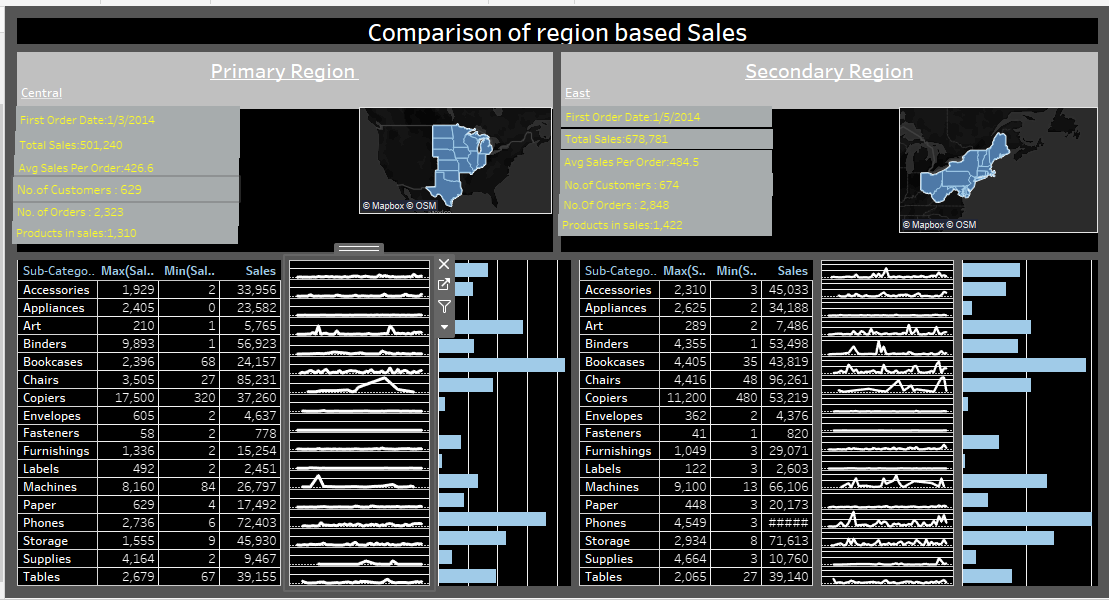

This screenshot's page, from the dashboard's own definition file:
{"tool":"tableau","page":{"name":"Dashboard 1","canvas":[1000,1000],"units":"permille","ordinal":0},"visuals":[{"type":"title","box":[7.2,13.5,985.5,57.4]},{"type":"worksheet","title":"PrimeRegion","mark":"Automatic","box":[7.2,70.9,492.8,351.7]},{"type":"worksheet","title":"SecondRegion","mark":"Automatic","box":[500,70.9,492.8,351.7]},{"type":"worksheet","title":"First Order Date","mark":"Automatic","box":[10,168.9,202.7,49]},{"type":"worksheet","title":"First Order Date (2)","mark":"Automatic","box":[503,168.9,191,35.5]},{"type":"worksheet","title":"Primary Region Map","mark":"Multipolygon","box":[320.4,170.6,174.9,180.7]},{"type":"worksheet","title":"Secondary Region Map","mark":"Multipolygon","box":[808.7,170.6,180.1,212.8]},{"type":"worksheet","title":"Total Sales (2)","mark":"Automatic","box":[503,207.8,191.9,33.8]},{"type":"worksheet","title":"Total Sales","mark":"Automatic","box":[9.1,211.2,203.6,45.6]},{"type":"worksheet","title":"AvgSales (2)","mark":"Automatic","box":[502.1,243.2,191.9,38.9]},{"type":"worksheet","title":"AvgSales","mark":"Automatic","box":[8.1,251.7,203.6,42.2]},{"type":"worksheet","title":"Customer (2)","mark":"Automatic","box":[502.1,282.1,192.7,38.9]},{"type":"worksheet","title":"Customer","mark":"Automatic","box":[7.2,288.9,204.5,40.5]},{"type":"worksheet","title":"Orders (2)","mark":"Automatic","box":[501.4,317.6,192.8,35.5]},{"type":"worksheet","title":"Orders","mark":"Automatic","box":[7.2,324.3,204.5,47.3]},{"type":"worksheet","title":"products (2)","mark":"Automatic","box":[500.4,351.4,193.7,37.2]},{"type":"worksheet","title":"products","mark":"Automatic","box":[6.3,363.2,204.5,38.9]},{"type":"worksheet","title":"sales_Prime","mark":"Automatic","rows":["Sub-Category"],"box":[7.2,422.7,246.3,563.8]},{"type":"worksheet","title":"Sheet 10","mark":"Automatic","rows":["Sub-Category","Calculation_654710833125646337"],"cols":["Order Date"],"box":[253.5,422.7,134.7,563.8]},{"type":"worksheet","title":"Sheet 8","mark":"Automatic","rows":["Sub-Category"],"cols":["Sales"],"box":[388.2,422.7,127.6,563.8]},{"type":"worksheet","title":"Sales_Sec","mark":"Automatic","rows":["Sub-Category"],"box":[515.8,422.7,219,563.8]},{"type":"worksheet","title":"Sheet 10 (2)","mark":"Automatic","rows":["Sub-Category","Calculation_654710833125646337"],"cols":["Order Date"],"box":[734.8,422.7,127.6,563.8]},{"type":"worksheet","title":"Sheet 8 (2)","mark":"Automatic","rows":["Sub-Category"],"cols":["Sales"],"box":[862.4,422.7,130.3,563.8]}]}

Visuals, with their boxes on the dashboard's canvas, which has no fixed pixel size, in thousandths of its width and height (x1, y1, x2, y2). These are canvas units, not pixel positions in the 1109x600 screenshot, which may show the page scaled, cropped or inside an application window:
title: [7,14,993,71]
"PrimeRegion" worksheet: [7,71,500,423]
"SecondRegion" worksheet: [500,71,993,423]
"First Order Date" worksheet: [10,169,213,218]
"First Order Date (2)" worksheet: [503,169,694,204]
"Primary Region Map" worksheet (Multipolygon marks): [320,171,495,351]
"Secondary Region Map" worksheet (Multipolygon marks): [809,171,989,383]
"Total Sales (2)" worksheet: [503,208,695,242]
"Total Sales" worksheet: [9,211,213,257]
"AvgSales (2)" worksheet: [502,243,694,282]
"AvgSales" worksheet: [8,252,212,294]
"Customer (2)" worksheet: [502,282,695,321]
"Customer" worksheet: [7,289,212,329]
"Orders (2)" worksheet: [501,318,694,353]
"Orders" worksheet: [7,324,212,372]
"products (2)" worksheet: [500,351,694,389]
"products" worksheet: [6,363,211,402]
"sales_Prime" worksheet: [7,423,254,986]
"Sheet 10" worksheet: [254,423,388,986]
"Sheet 8" worksheet: [388,423,516,986]
"Sales_Sec" worksheet: [516,423,735,986]
"Sheet 10 (2)" worksheet: [735,423,862,986]
"Sheet 8 (2)" worksheet: [862,423,993,986]
